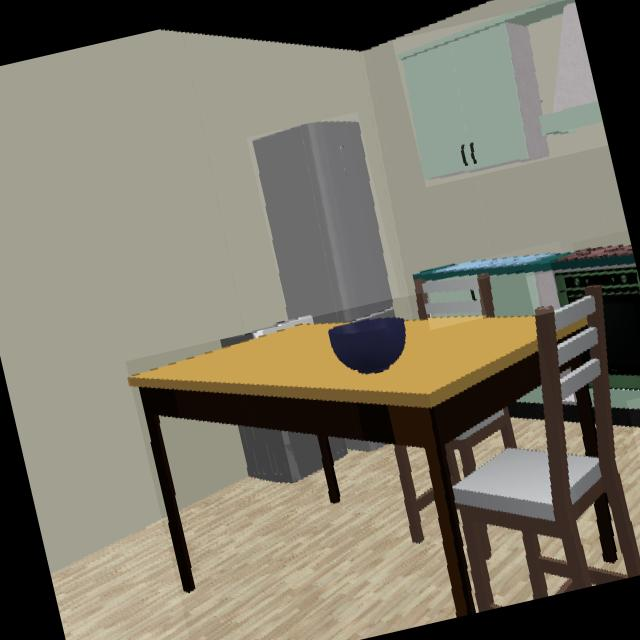cabinet: (397, 0, 579, 185), (490, 272, 560, 318)
chair: (394, 286, 640, 617), (424, 278, 484, 319)
fridge: (252, 121, 395, 323)
oven: (551, 249, 640, 394)
sink: (413, 252, 563, 283)
stove: (574, 231, 631, 250)
table: (131, 313, 541, 615)
